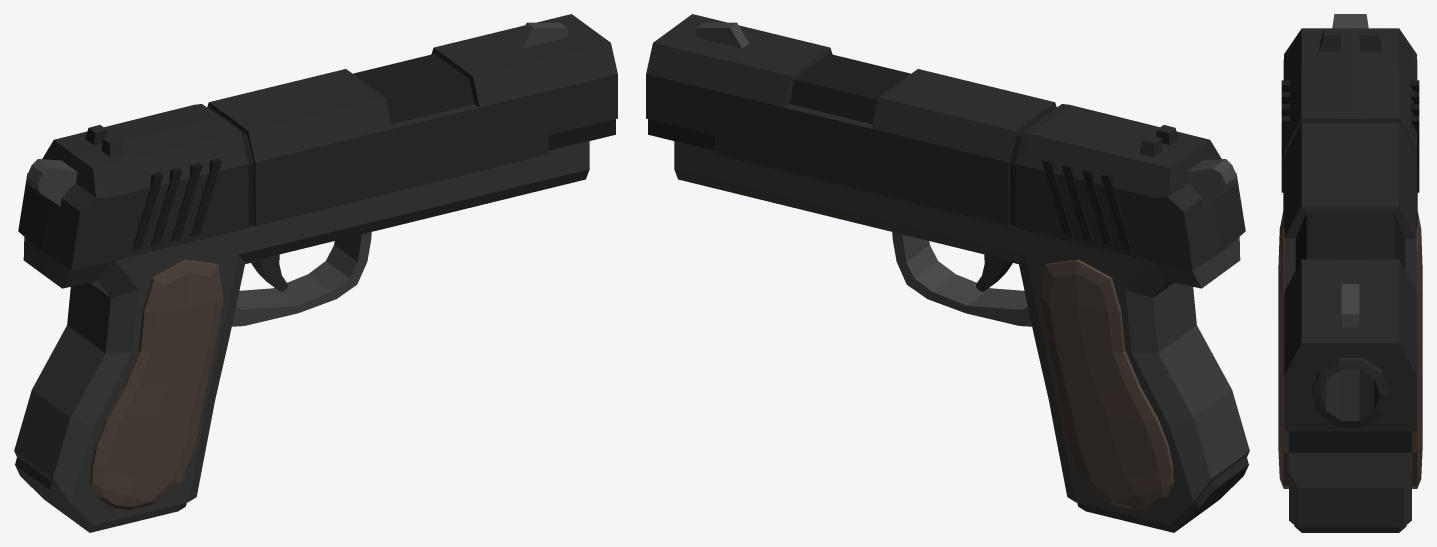
Rendered from usp.glb.
3 renders of one model, left to right at view 1: azimuth 30°, elevation 25°; view 2: azimuth 150°, elevation 25°; view 3: azimuth 270°, elevation 25°, orthographic. The views are drawn at different scales.
Parts seen in each view (by area): view 1: Pistol_1_Cube.204; view 2: Pistol_1_Cube.204; view 3: Pistol_1_Cube.204.
Part boxes in pixels (x1,y1,x2,y2): Pistol_1_Cube.204: [14, 14, 617, 532]; Pistol_1_Cube.204: [646, 14, 1249, 532]; Pistol_1_Cube.204: [1278, 14, 1422, 532].
Size of the model in its own units: 1.82 by 1.16 by 0.3232.
1 material, 1 textured.
